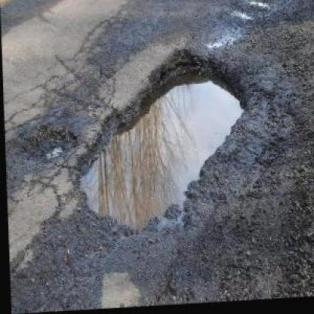Hueco: (70, 44, 250, 240), (14, 119, 76, 165)
